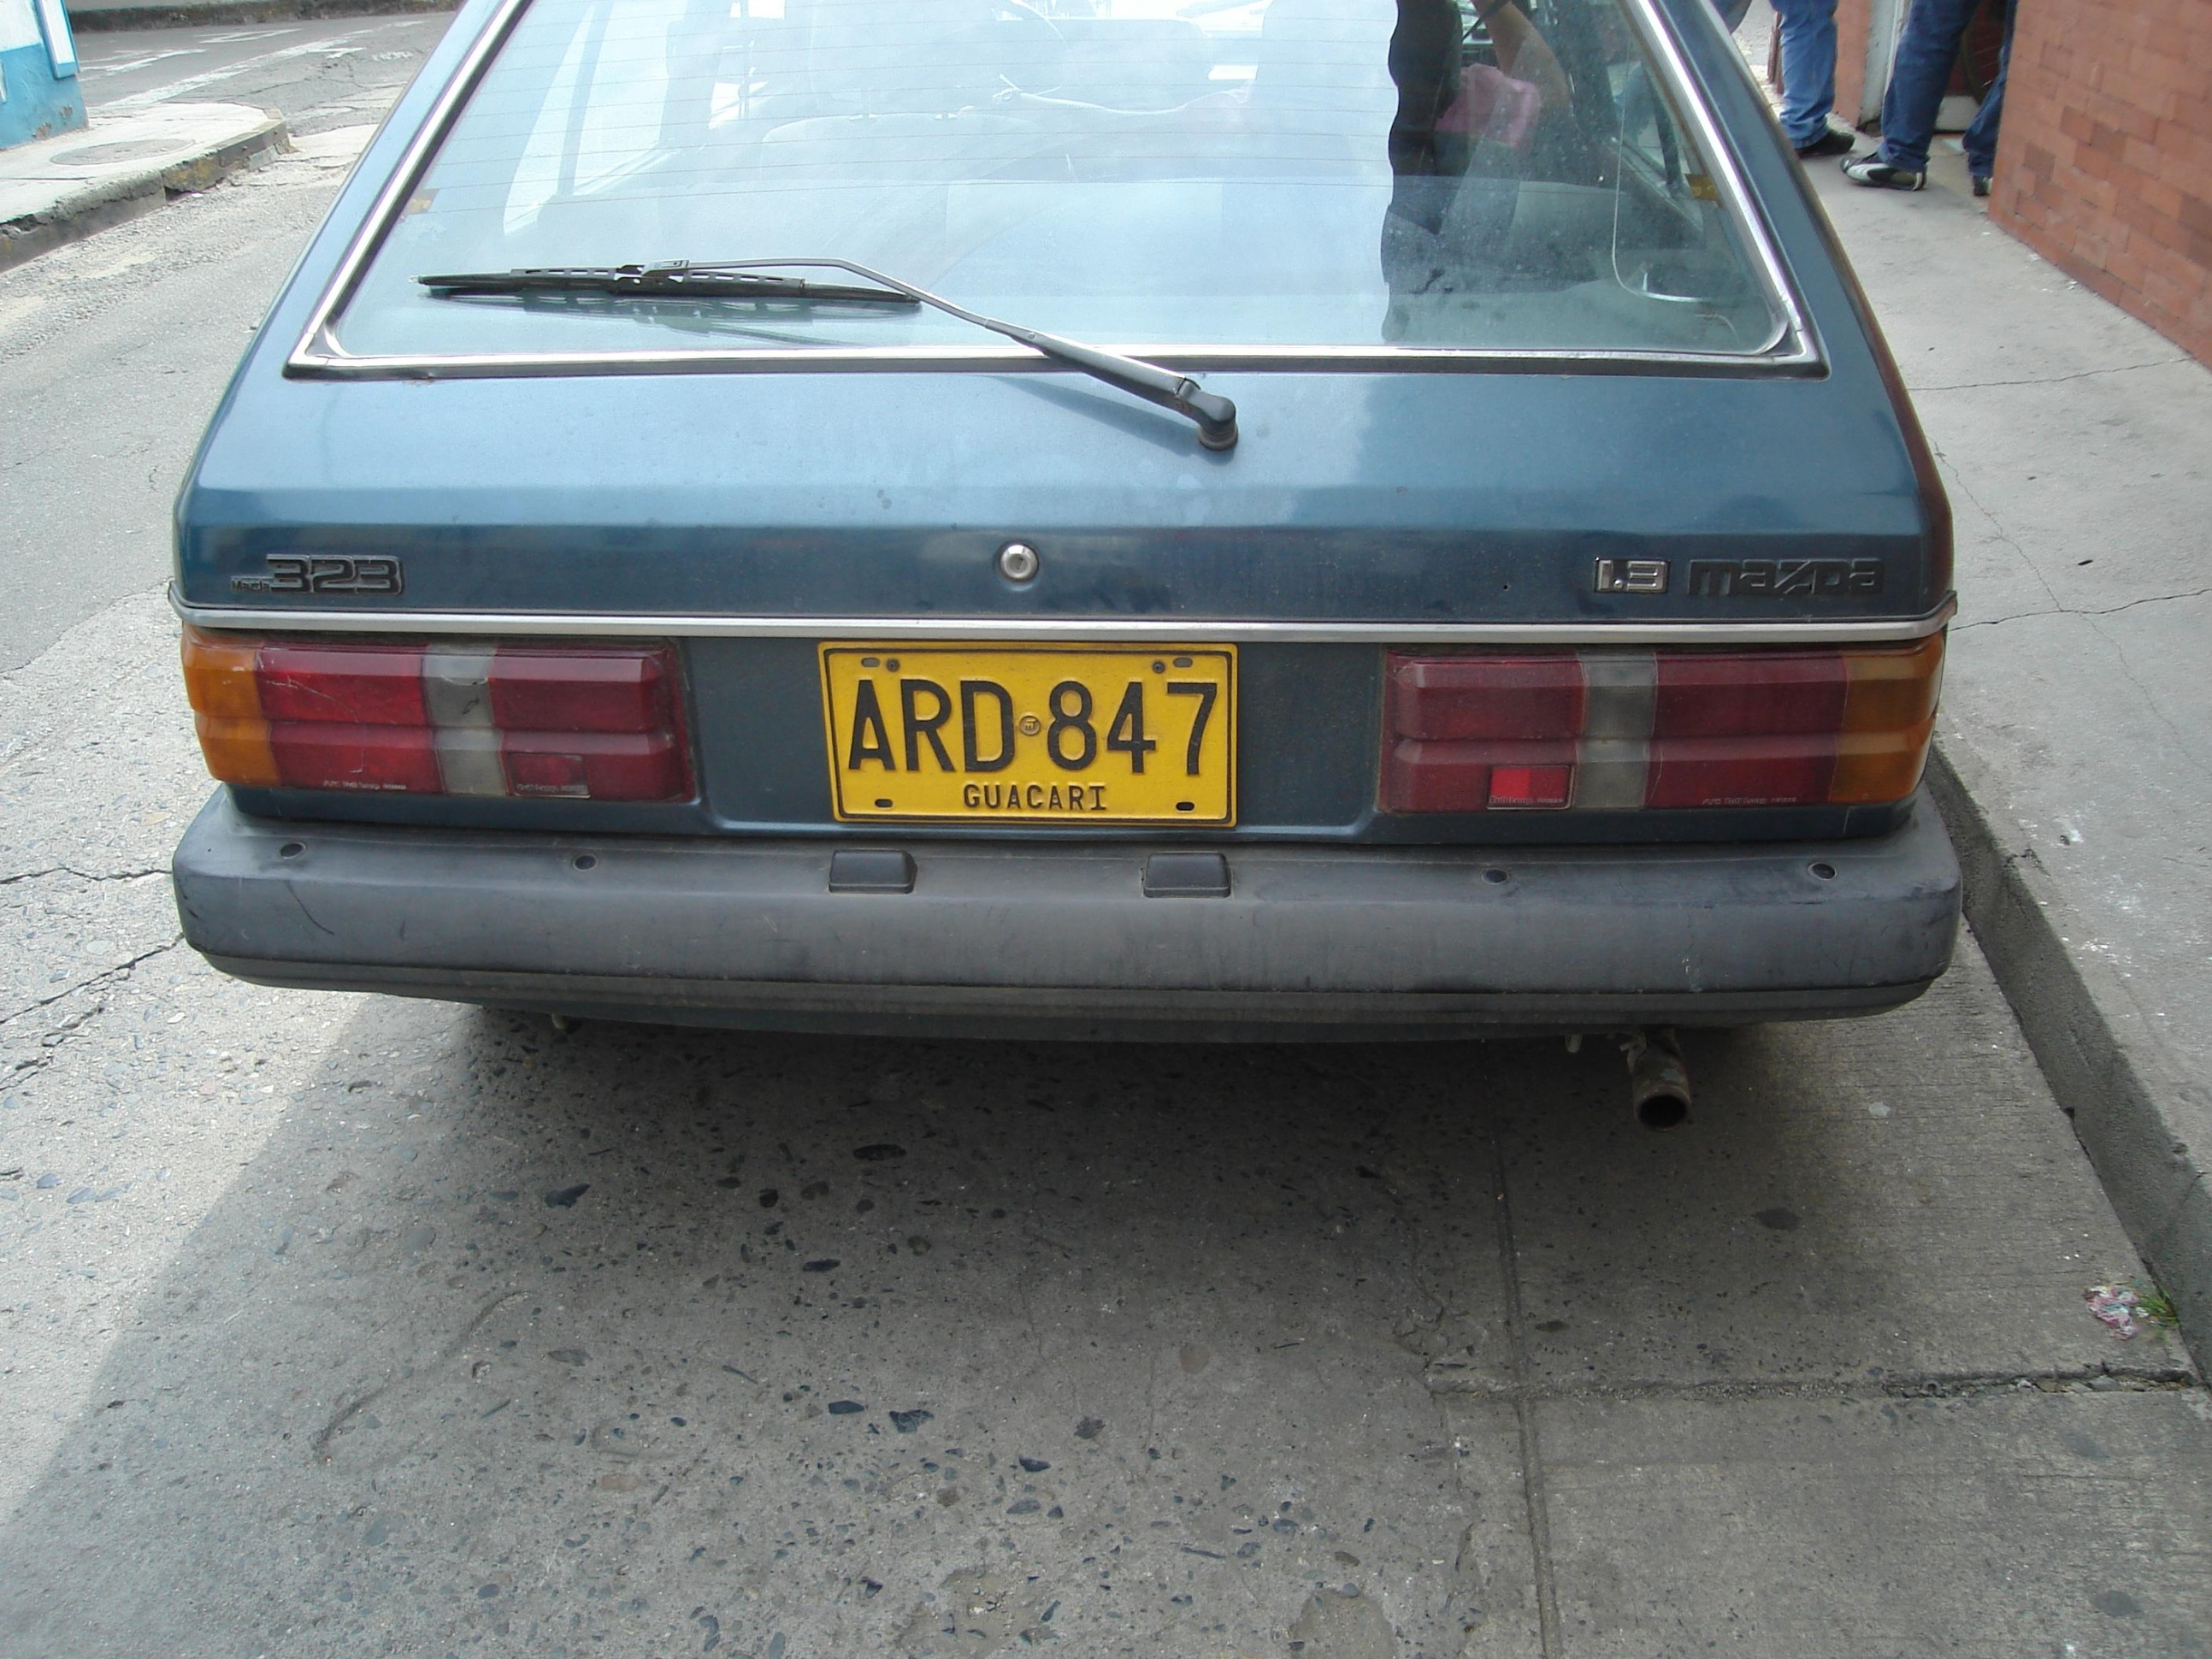placas: (809, 612, 1259, 845)
